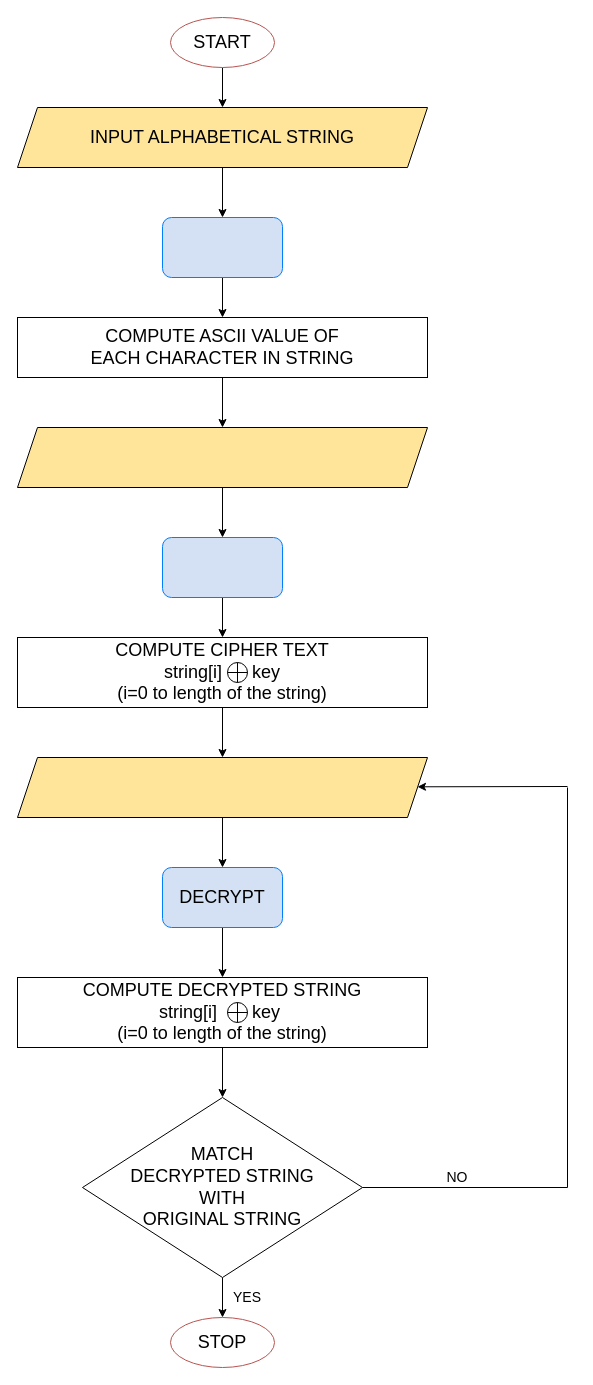
The diagram is 593 pixels wide and 1385 high, and some of its shapes have lost their labels. The shapes that lost their labels are listed below. From the top down, each one's centre as x and y in pixels, then its label:
At point 222,247: "NEXT".
At point 222,457: "SELECT ENCRYPTION KEY".
At point 222,567: "ENCRYPT".
At point 222,787: "INPUT CIPHER TEXT AND SELECT DECRYPTION KEY".
